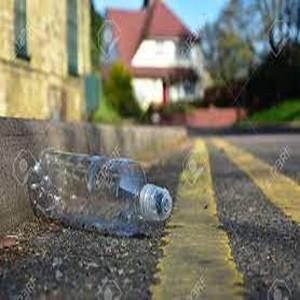Plastic: (30, 148, 172, 233)
